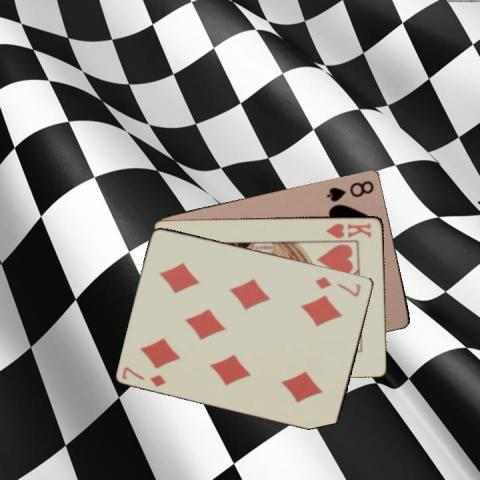7d: (312, 273, 363, 298), (119, 363, 168, 388)
8s: (324, 177, 376, 203)
Kh: (323, 220, 373, 240)
